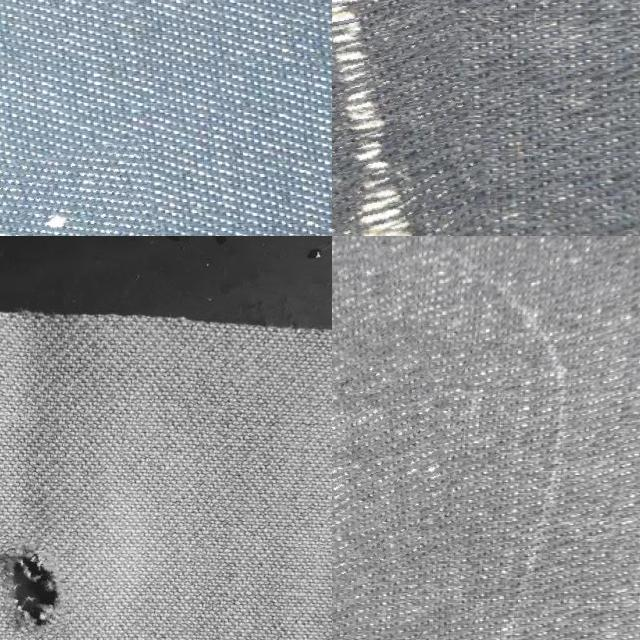Thread_other: (332, 250, 450, 582), (332, 0, 489, 236), (0, 145, 159, 236)
seam: (0, 536, 65, 638)
